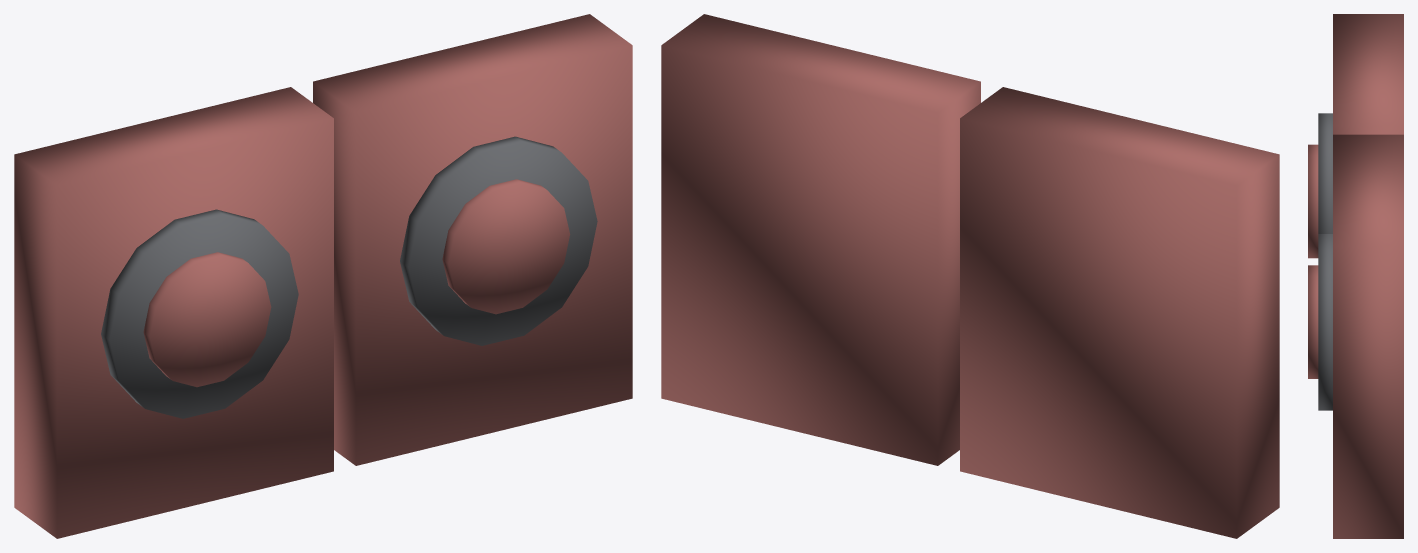
File: fire_hose_rack__cluster.glb
The picture shows the model from 3 angles, left to right: view 1: azimuth 30°, elevation 25°; view 2: azimuth 150°, elevation 25°; view 3: azimuth 270°, elevation 25°; orthographic projection. The views are drawn at different scales.
Parts seen in each view (by area): view 1: world; view 2: world; view 3: world.
Part boxes in pixels (x1,y1,x2,y2): world: (14, 14, 632, 538); world: (661, 14, 1279, 538); world: (1308, 14, 1403, 538).
Bounding box in the file's own units: 1.71 × 1 × 0.2975.
